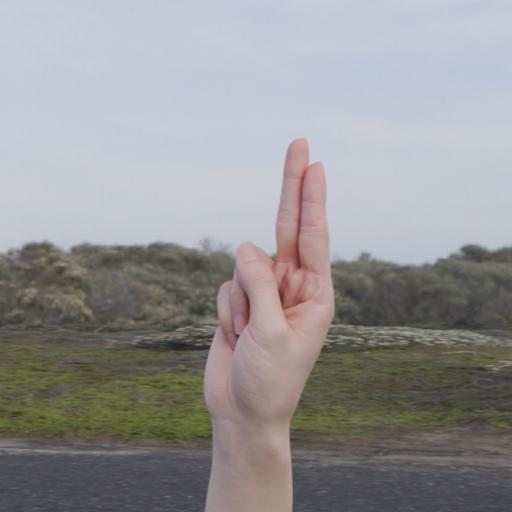U: (195, 114, 344, 512)
